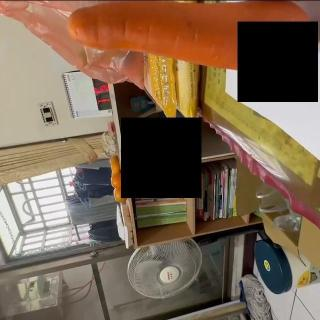carrot: (65, 0, 313, 74)
